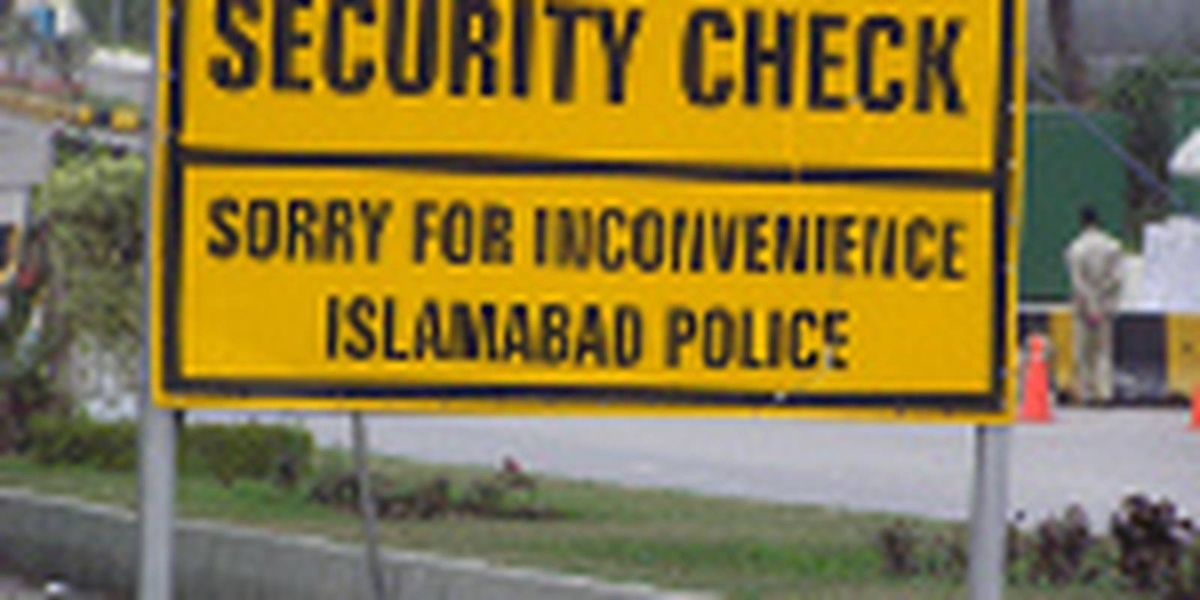text: (689, 3, 704, 121), (705, 3, 720, 121), (721, 3, 736, 121), (737, 3, 752, 121), (753, 3, 768, 121), (769, 3, 784, 121), (785, 3, 800, 121), (801, 3, 816, 121), (817, 3, 832, 121), (833, 3, 848, 121), (849, 3, 864, 121), (865, 3, 880, 121), (881, 3, 896, 121), (897, 3, 912, 121), (913, 3, 928, 121), (929, 3, 944, 121), (945, 3, 960, 121), (209, 1, 224, 106), (225, 1, 240, 106), (241, 1, 256, 106), (257, 1, 272, 106), (273, 1, 288, 106), (289, 1, 304, 106), (305, 1, 320, 106), (321, 1, 336, 106), (337, 1, 352, 106), (353, 1, 368, 106), (369, 1, 384, 106), (385, 1, 400, 106), (401, 1, 416, 106), (417, 1, 432, 106), (433, 1, 448, 106), (449, 1, 464, 106), (465, 1, 480, 106), (481, 1, 496, 106), (497, 1, 512, 106), (513, 1, 528, 106), (529, 1, 544, 106), (545, 1, 560, 106), (561, 1, 576, 106), (577, 1, 592, 106), (593, 1, 608, 106), (609, 1, 624, 106), (625, 1, 640, 106), (545, 202, 560, 283), (561, 202, 576, 283), (577, 202, 592, 283), (593, 202, 608, 283), (609, 202, 624, 283), (625, 202, 640, 283), (641, 202, 656, 283), (657, 202, 672, 283), (673, 202, 688, 283), (689, 202, 704, 283), (705, 202, 720, 283), (721, 202, 736, 283), (737, 202, 752, 283), (753, 202, 768, 283), (769, 202, 784, 283), (785, 202, 800, 283), (801, 202, 816, 283), (817, 202, 832, 283), (833, 202, 848, 283), (849, 202, 864, 283), (865, 202, 880, 283), (881, 202, 896, 283), (897, 202, 912, 283), (913, 202, 928, 283), (929, 202, 944, 283), (945, 202, 960, 283), (337, 290, 352, 368), (353, 290, 368, 368), (369, 290, 384, 368), (385, 290, 400, 368), (401, 290, 416, 368), (417, 290, 432, 368), (433, 290, 448, 368), (449, 290, 464, 368), (465, 290, 480, 368), (481, 290, 496, 368), (497, 290, 512, 368), (513, 290, 528, 368), (529, 290, 544, 368), (545, 290, 560, 368), (561, 290, 576, 368), (577, 290, 592, 368), (593, 290, 608, 368), (609, 290, 624, 368), (625, 290, 640, 368), (209, 196, 224, 267), (225, 196, 240, 267), (241, 196, 256, 267), (257, 196, 272, 267), (273, 196, 288, 267), (289, 196, 304, 267), (305, 196, 320, 267), (321, 196, 336, 267), (337, 196, 352, 267), (353, 196, 368, 267), (369, 196, 384, 267), (417, 198, 432, 269), (433, 198, 448, 269), (449, 198, 464, 269), (465, 198, 480, 269), (481, 198, 496, 269), (497, 198, 512, 269), (679, 3, 688, 121), (531, 202, 544, 283), (673, 303, 688, 373), (689, 303, 704, 373), (705, 303, 720, 373), (721, 303, 736, 373), (737, 303, 752, 373), (753, 303, 768, 373), (769, 303, 784, 373), (785, 303, 800, 373), (801, 303, 816, 373), (817, 303, 832, 373), (833, 303, 848, 373), (323, 290, 336, 368), (961, 3, 969, 121), (385, 196, 397, 267), (961, 202, 970, 283), (641, 1, 646, 106), (665, 303, 672, 373), (641, 290, 646, 368), (412, 198, 416, 269), (849, 303, 852, 373), (206, 196, 208, 267), (513, 198, 515, 269), (207, 1, 208, 106)
